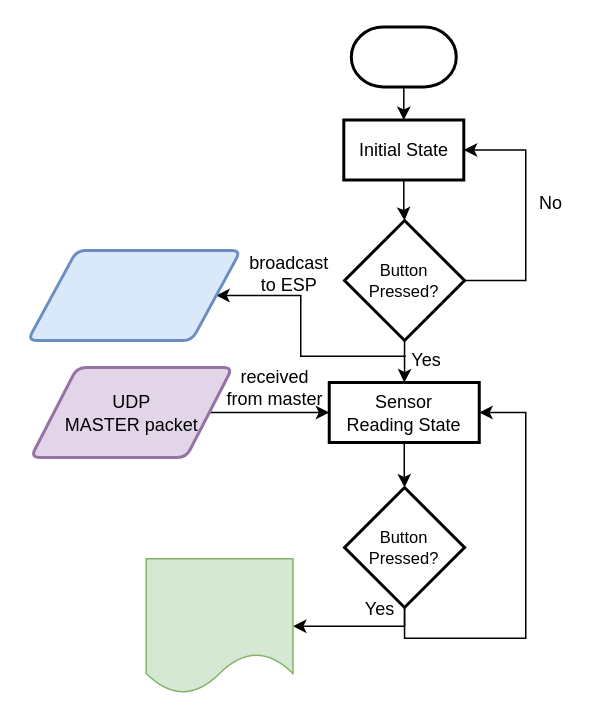
Image size: 599x720. Some labels were removed from this diagram. The shapes that lost their labels are listed below. From the top down, each one's centre as x and y in pixels, then its label:
At pixel 403 56: "Start".
At pixel 134 294: "UDP SERVER packet".
At pixel 219 625: "yyyy-mm-dd HH:mm:ss.json".
